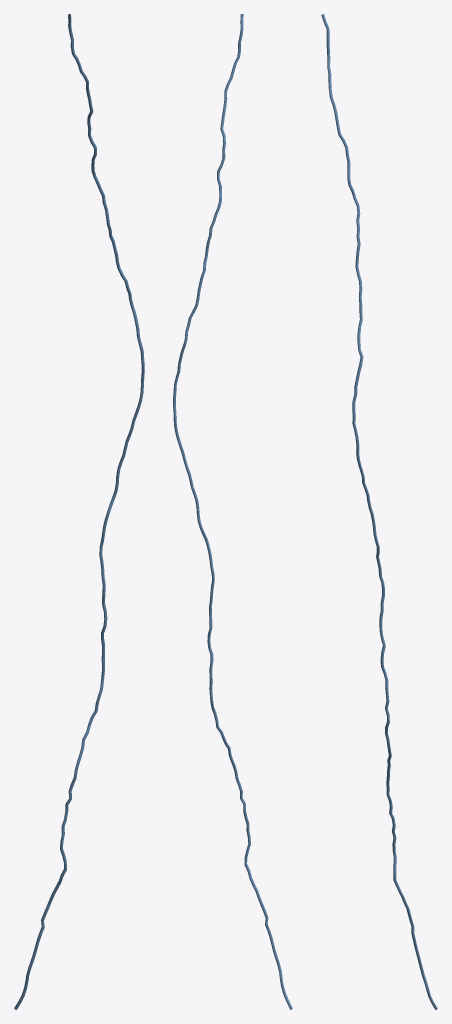
Rendered from sweep56.fbx.
3 views of the same model, side by side, from view 1: azimuth 30°, elevation 25°; view 2: azimuth 210°, elevation 25°; view 3: azimuth 270°, elevation 25° (orthographic). The views are drawn at different scales.
Visible parts, largest first — view 1: sweep56; view 2: sweep56; view 3: sweep56.
Boxes of the visible parts, box(x1,y1,x2,y2) form: sweep56: box(14, 14, 144, 1009); sweep56: box(173, 14, 292, 1009); sweep56: box(321, 14, 437, 1009).
Size of the model in its own units: 0.6714 by 7.09 by 0.7544.
